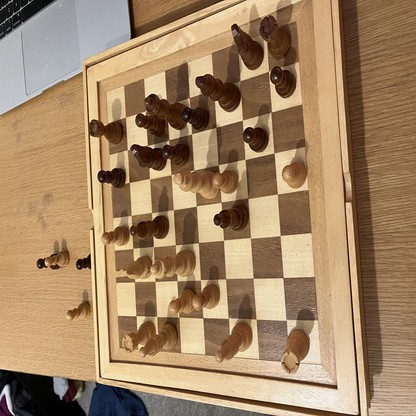bishop_black: (214, 204, 249, 232), (130, 216, 169, 239)
bishop_white: (215, 322, 253, 362), (139, 324, 177, 358)
king_black: (195, 75, 240, 112)
king_white: (174, 171, 218, 199)
knight_black: (231, 24, 264, 69), (130, 144, 165, 170)
knight_white: (115, 256, 151, 279)
pawn_black: (271, 67, 296, 99), (135, 114, 165, 135), (182, 107, 209, 130), (162, 144, 189, 166), (243, 128, 268, 151), (98, 169, 127, 187)
pawn_white: (168, 289, 196, 315), (282, 162, 308, 189), (192, 285, 220, 310), (213, 170, 239, 194), (102, 227, 130, 245), (66, 302, 90, 320), (44, 250, 69, 267)
queen_black: (145, 94, 187, 130)
queen_white: (151, 250, 196, 279)
rock_black: (260, 15, 291, 60), (89, 119, 124, 143)
rock_white: (281, 331, 309, 375), (122, 321, 155, 352)
